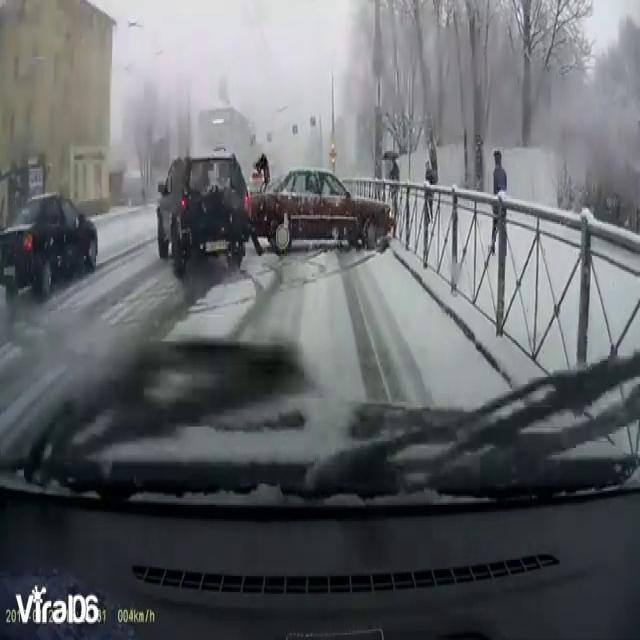moderate: (151, 140, 403, 273)
